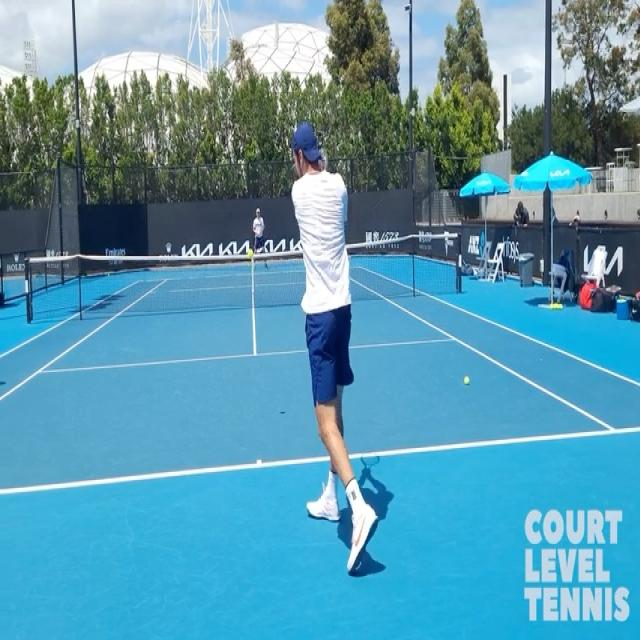backhand-stroke: (285, 126, 381, 579)
